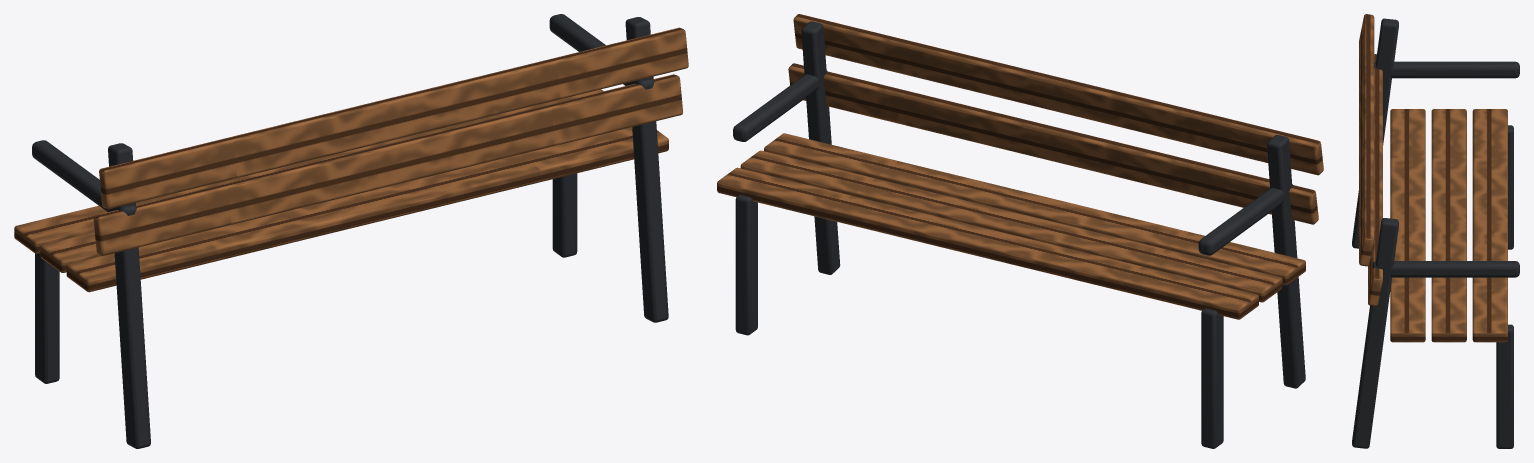
The model's file is bench.glb.
The picture shows the model from 3 angles, left to right: view 1: azimuth 30°, elevation 25°; view 2: azimuth 150°, elevation 25°; view 3: azimuth 270°, elevation 25°; orthographic projection. The views are drawn at different scales.
Parts seen in each view (by area): view 1: bench; view 2: bench; view 3: bench.
Boxes of the visible parts, x1,y1,x2,y2 form: bench: [14, 14, 688, 448]; bench: [717, 14, 1323, 448]; bench: [1352, 14, 1519, 448].
Size of the model in its own units: 1.8 by 0.8493 by 0.5695.
Materials: 2 (1 with a texture image).
